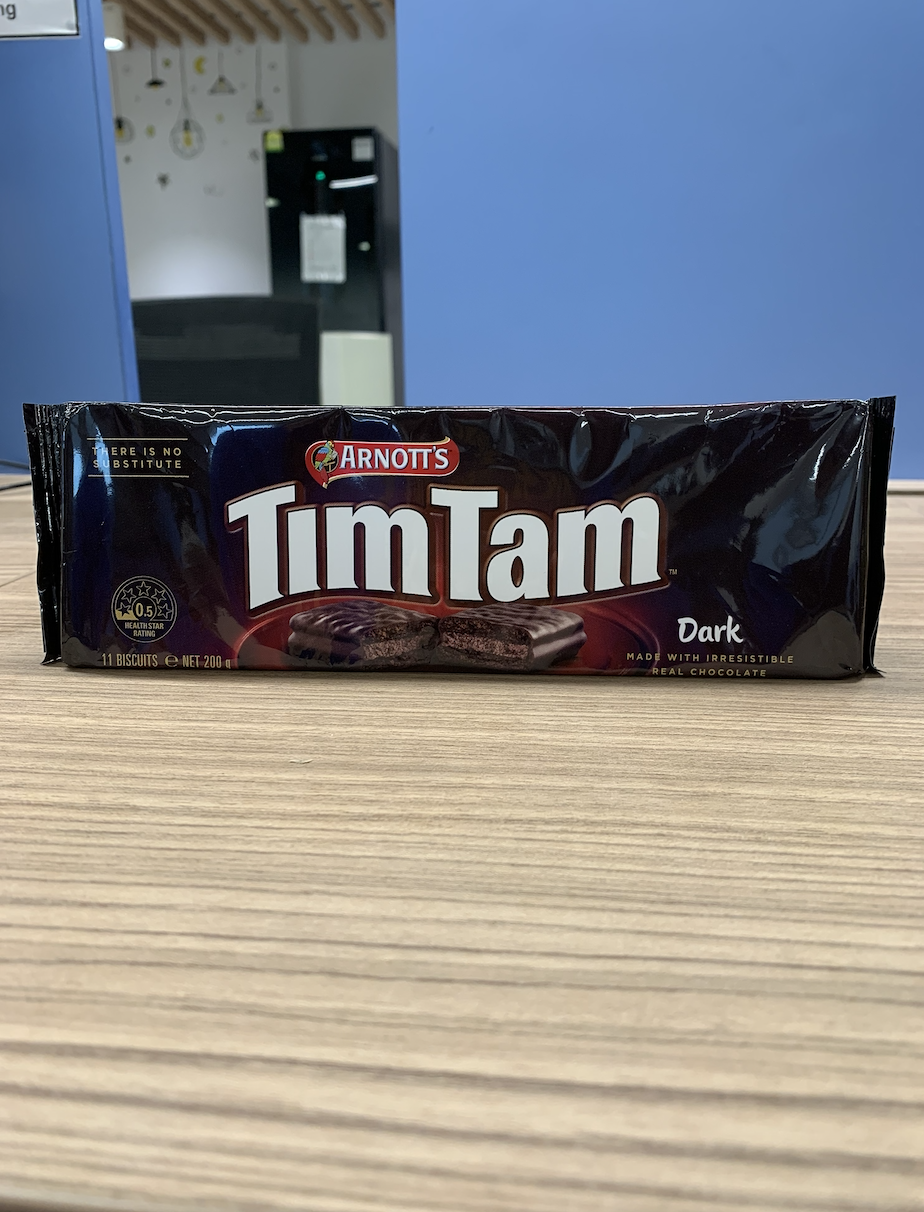cookies_200g-299g: (56, 409, 873, 671)
